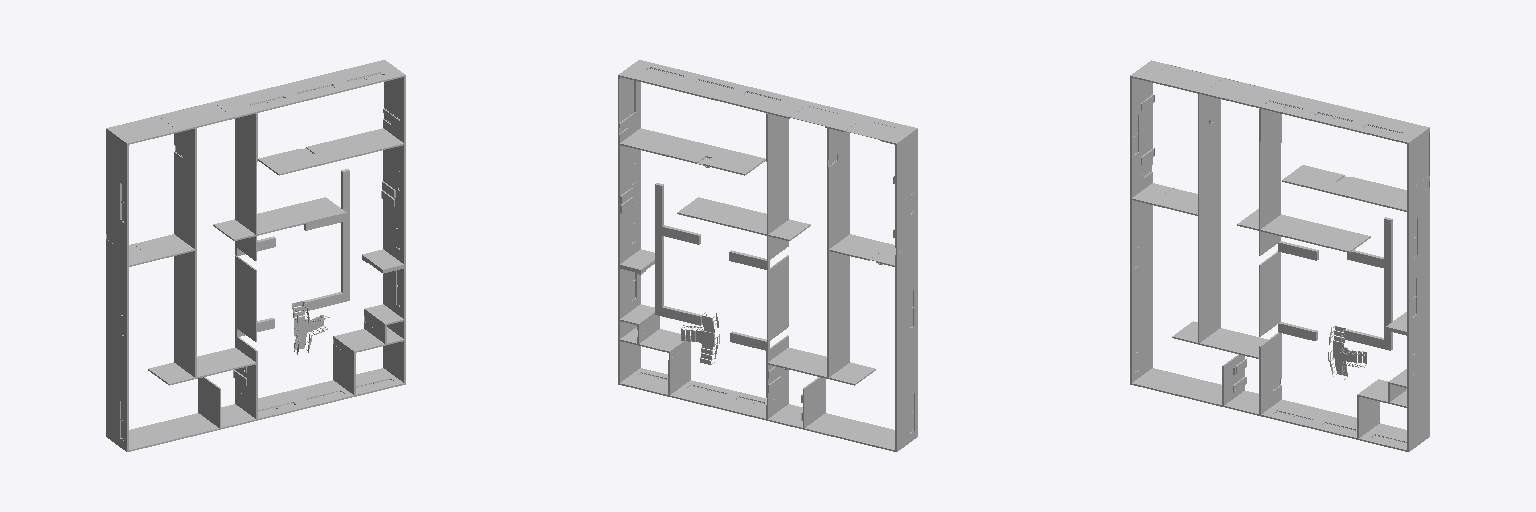
Rendered from FACTORY_RENGA_BUILDING_NEW.obj.
The picture shows the model from 3 angles: view 1: azimuth 30°, elevation 25°; view 2: azimuth 150°, elevation 25°; view 3: azimuth 330°, elevation 25°; orthographic projection.
Parts seen in each view (by area): view 1: mesh_3, mesh_16, mesh_17; view 2: mesh_3, mesh_16, mesh_17, mesh_8, mesh_1, mesh_2; view 3: mesh_3, mesh_16, mesh_17, mesh_8.
Boxes of the visible parts, x1=… form: mesh_3: x1=106, y1=60, x2=405, y2=451; mesh_16: x1=121, y1=74, x2=399, y2=438; mesh_17: x1=124, y1=102, x2=227, y2=135; mesh_3: x1=618, y1=60, x2=917, y2=451; mesh_16: x1=632, y1=69, x2=913, y2=431; mesh_17: x1=791, y1=106, x2=894, y2=138; mesh_8: x1=619, y1=78, x2=633, y2=122; mesh_1: x1=681, y1=315, x2=714, y2=364; mesh_2: x1=620, y1=176, x2=894, y2=420; mesh_3: x1=1130, y1=60, x2=1429, y2=451; mesh_16: x1=1135, y1=102, x2=1415, y2=445; mesh_17: x1=1153, y1=65, x2=1256, y2=97; mesh_8: x1=1414, y1=133, x2=1428, y2=186.
Size of the model in its own units: 38.18 by 40.53 by 5.